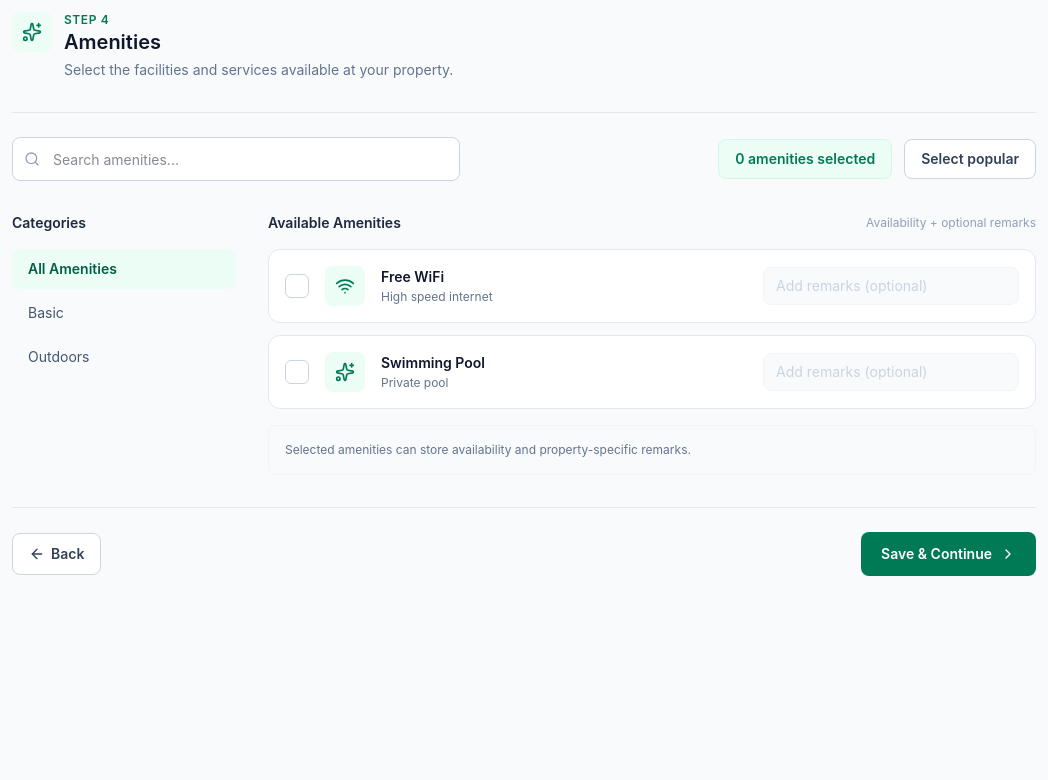
Scenario: AmenitiesStep Component › filters amenities list when typing in search bar
In the search field with placeholder "Search amenities...": point(236, 159) x1=12 y1=137 x2=460 y2=181, type "pool"
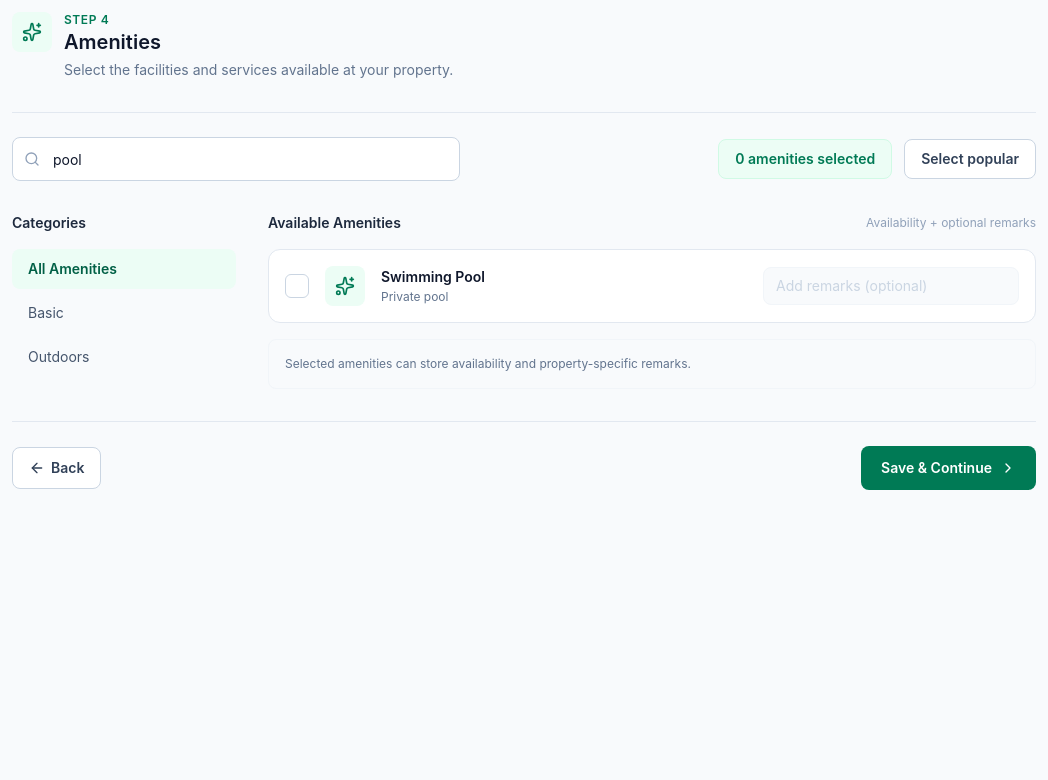
Expected: the text "Swimming Pool" is shown, x1=381 y1=268 x2=485 y2=285
Now the text "Free WiFi" is gone
